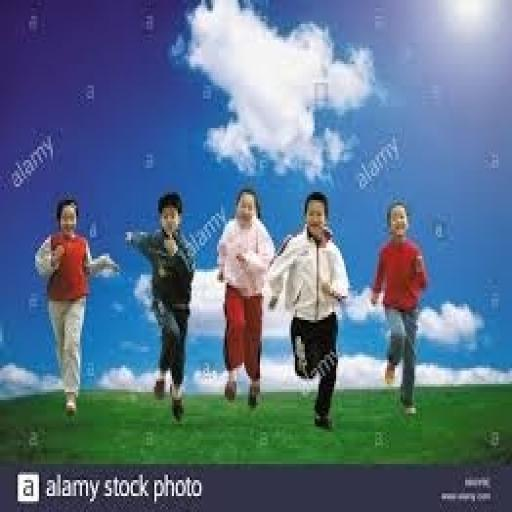running: (264, 189, 354, 432), (31, 195, 121, 421), (121, 189, 199, 424), (367, 198, 432, 422), (213, 186, 278, 410)
